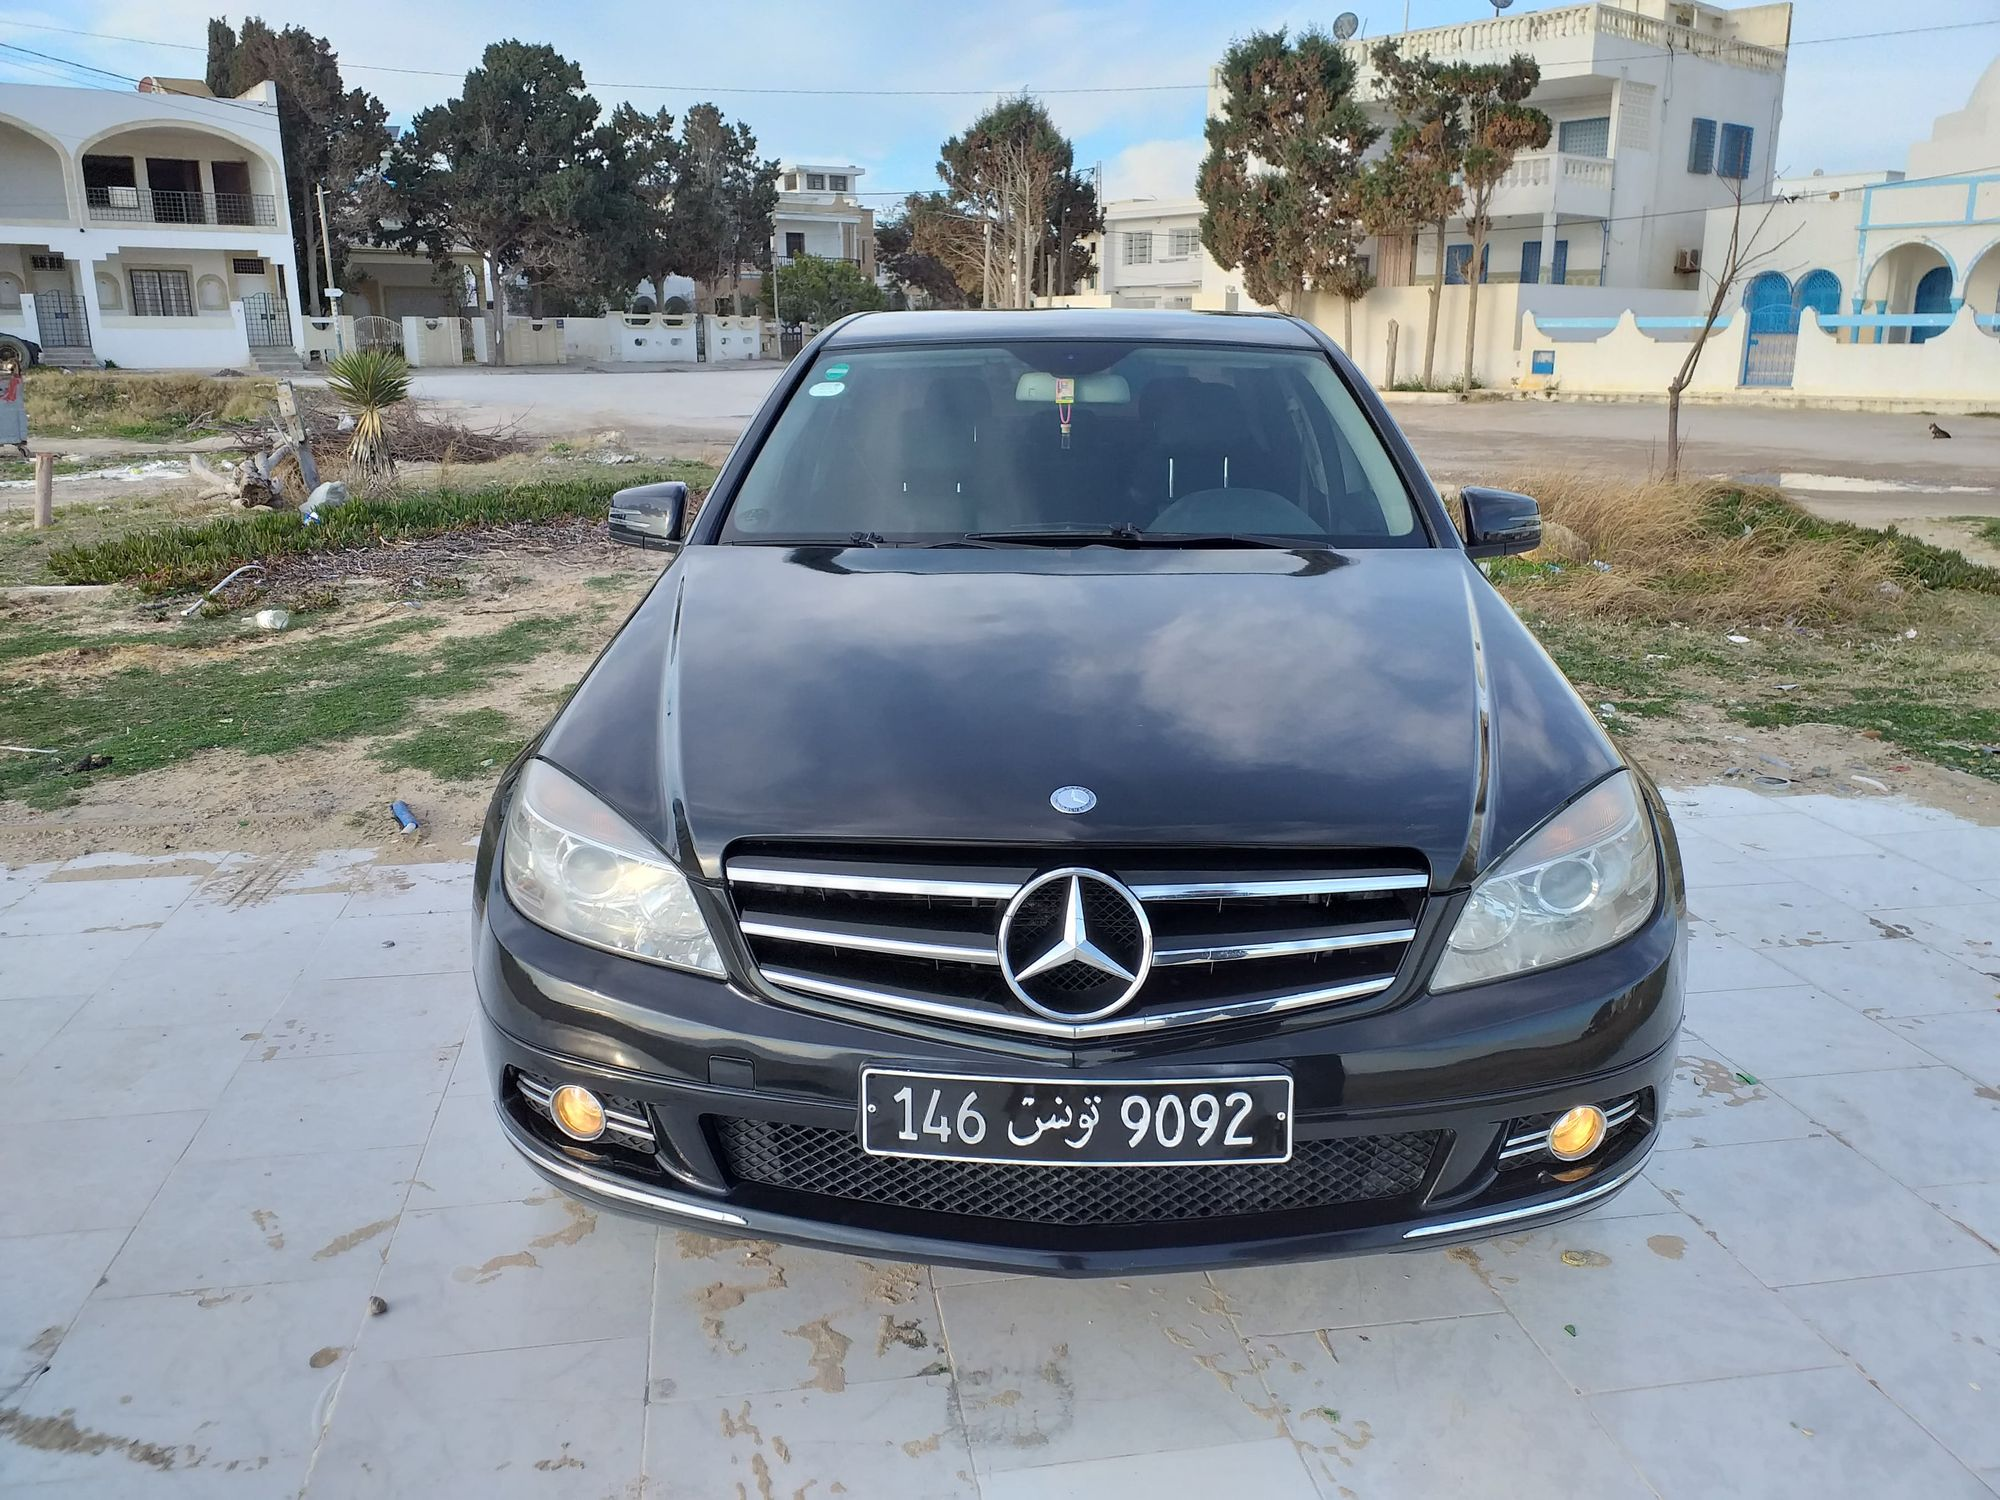LP: (858, 1064, 1296, 1167)
